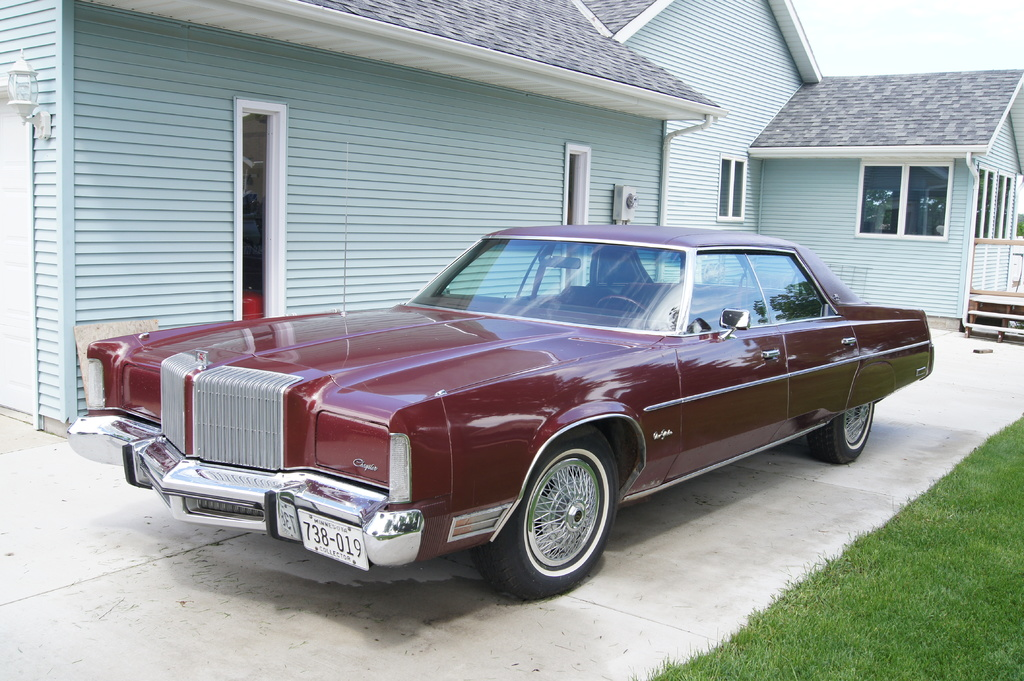mobil: (99, 166, 958, 594)
